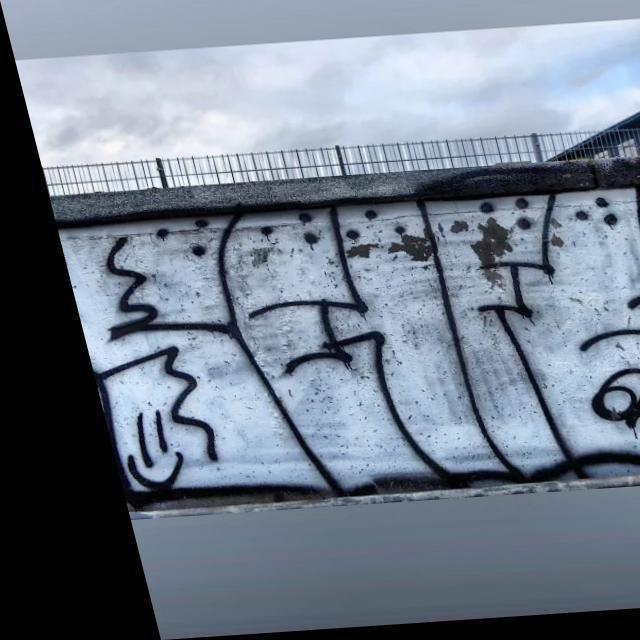-: (42, 176, 640, 516)
